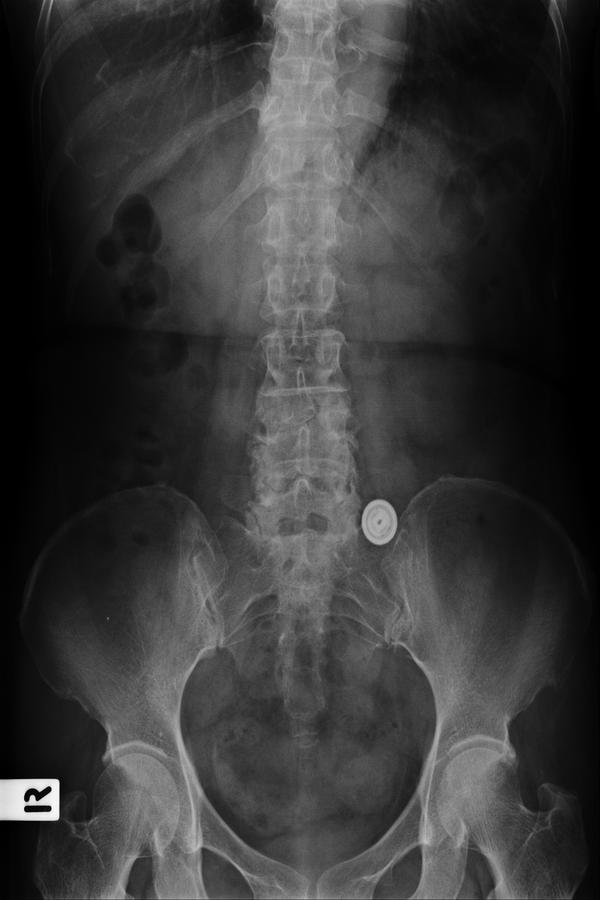lumbar scoliosis: (236, 188, 388, 562)
